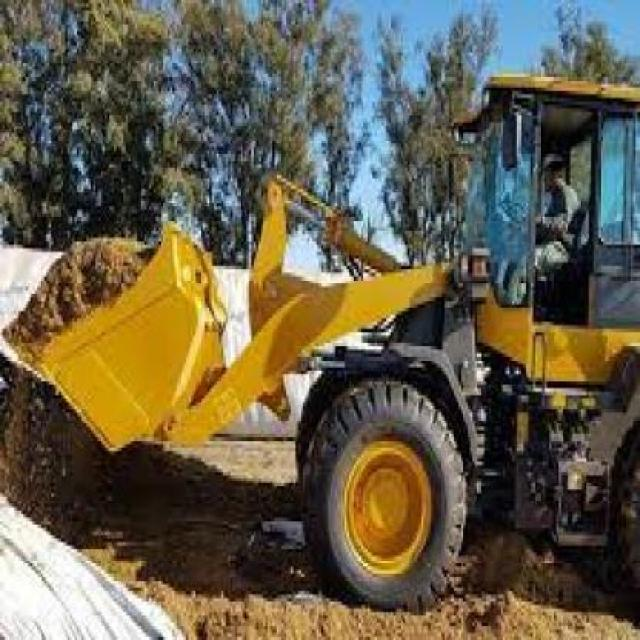buldozerpayloadergrader: (34, 51, 640, 618)
